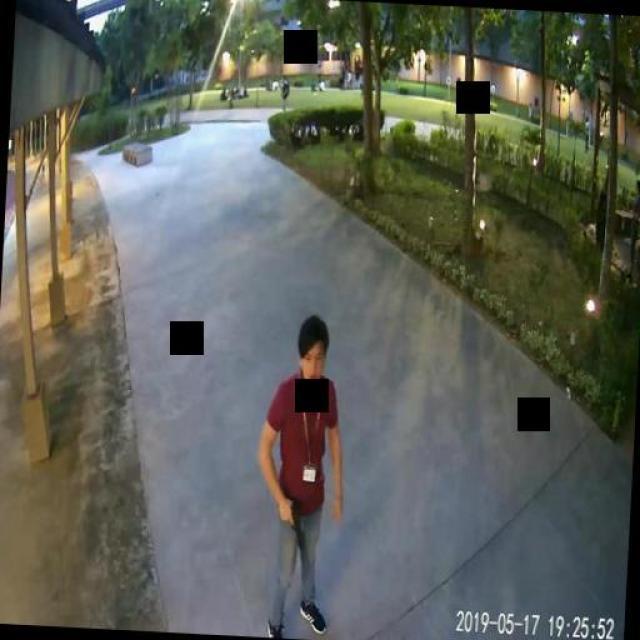gun: (276, 497, 305, 548)
